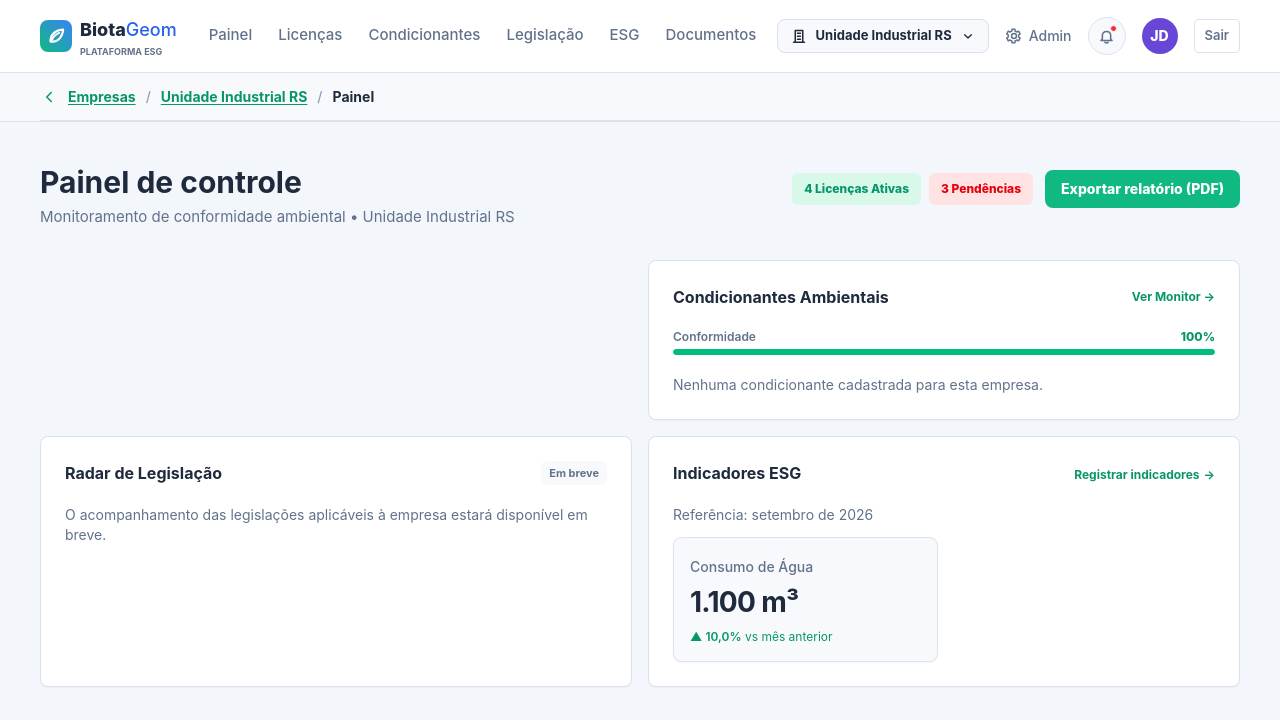
CompanyDashboardPage › falls back to a generic message on an unexpected failure
Click the button "Exportar relatório (PDF)" at (1142, 189), box [1045,170,1240,208]
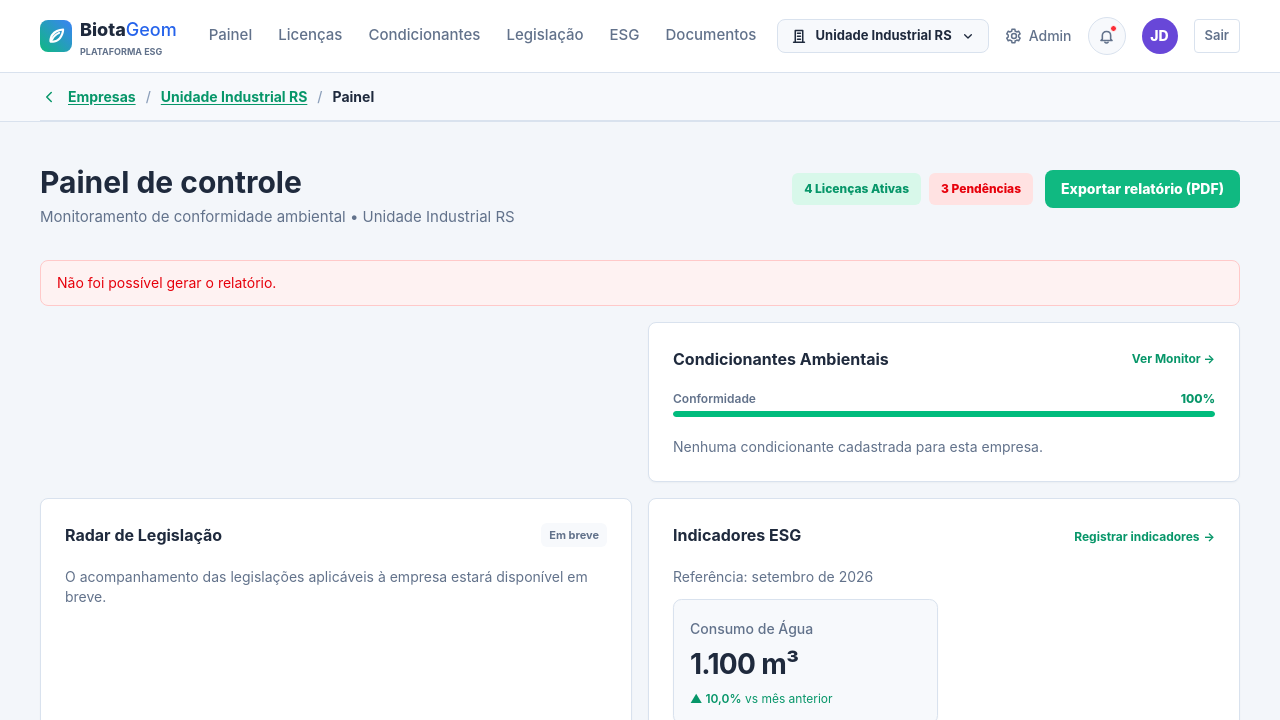
Check: the text "Não foi possível gerar o relatório." is shown, box [40,260,1240,306]
